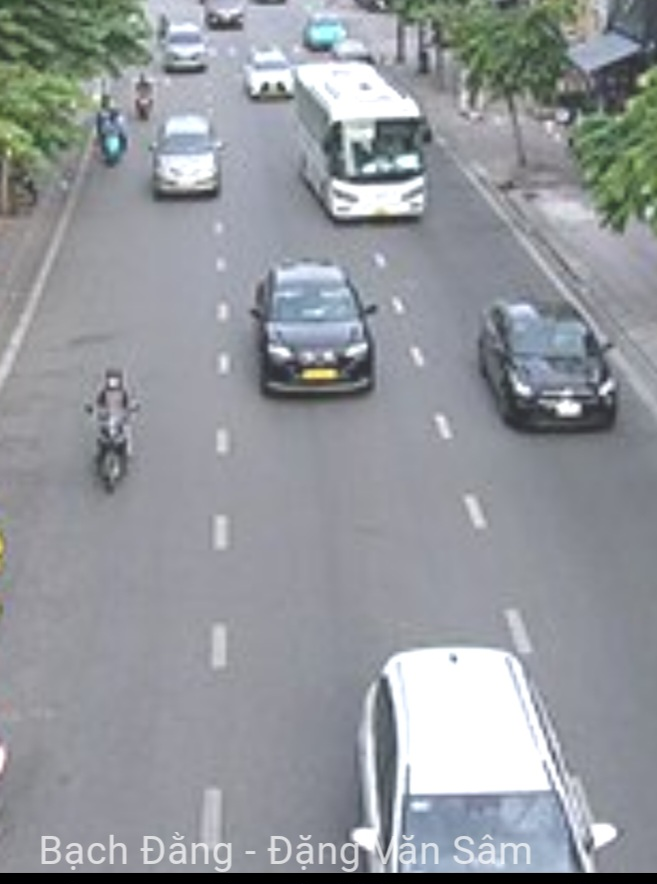car: (357, 645, 599, 873), (480, 295, 617, 433), (254, 257, 375, 395), (152, 112, 221, 201), (243, 47, 294, 102), (160, 23, 208, 73)
